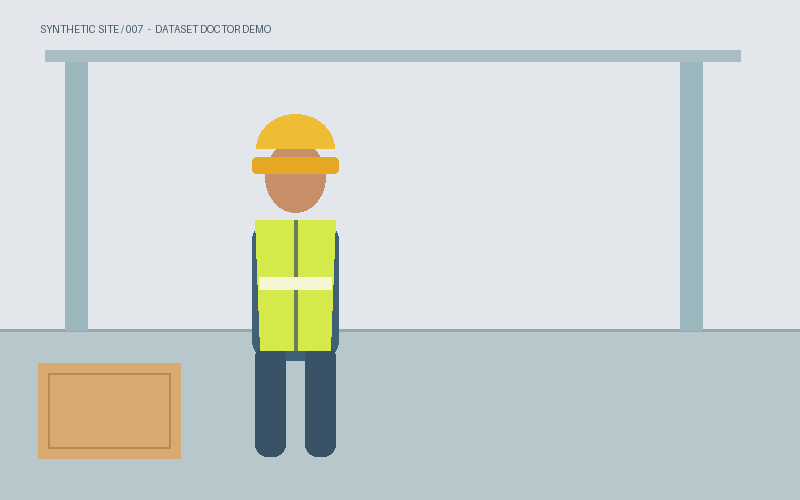Reflective-Jacket: (255, 220, 335, 350)
Safety-Helmet: (252, 127, 338, 173)
